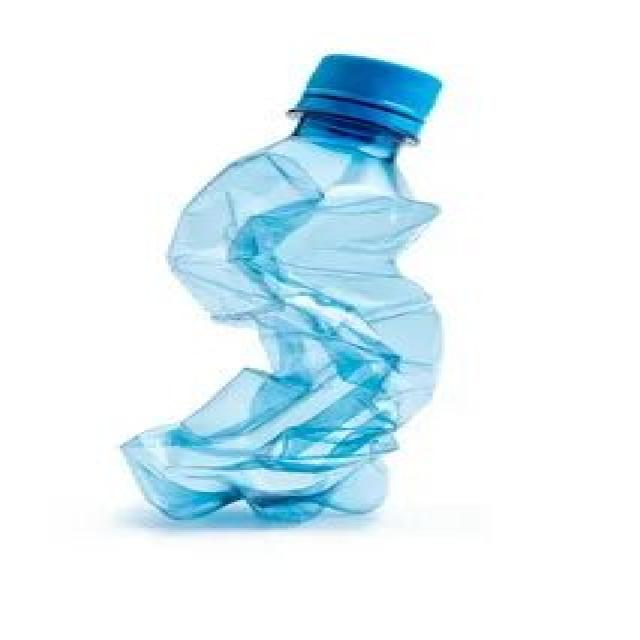blue: (120, 116, 446, 522)
